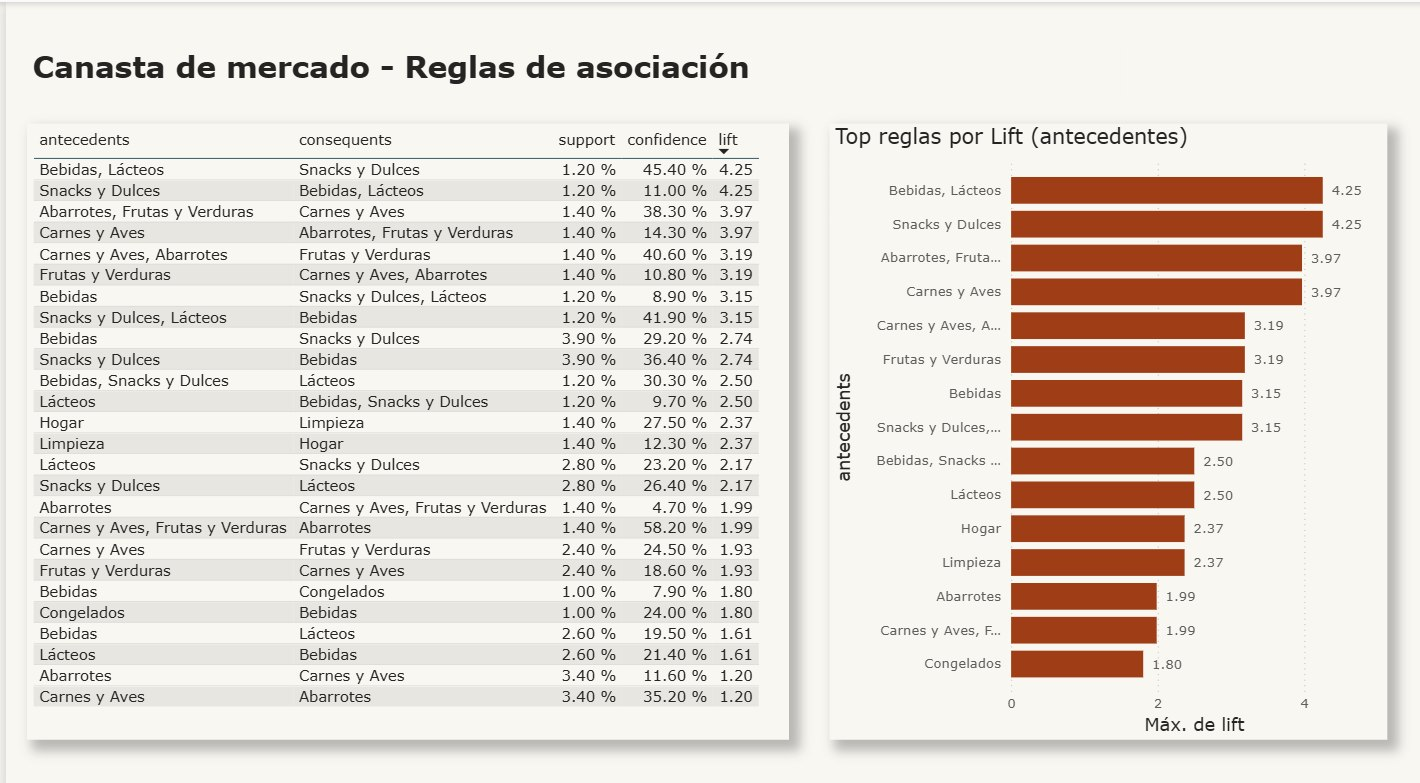

Layout of this report page (visuals, bound fields, positions):
{"tool":"powerbi","page":{"name":"07 Canasta Mercado","canvas":[1280,720],"ordinal":6},"visuals":[{"type":"tableEx","fields":{"Values":["reglas_asociacion.antecedents","reglas_asociacion.consequents","reglas_asociacion.support","reglas_asociacion.confidence","reglas_asociacion.lift"]},"box":[19.5,109.7,686.6,555.7],"z":0},{"type":"barChart","title":"Top reglas por Lift (antecedentes)","fields":{"Category":["reglas_asociacion.antecedents"],"Y":["Max(reglas_asociacion.lift)"]},"box":[741.5,109.7,502.6,555.7],"z":1000},{"type":"textbox","box":[19.5,37.2,985.7,49.5],"z":2000}]}

Visuals, with their boxes in screenshot pixels (x1, y1, x2, y2), scaled from the page's 1280x720 canvas onto the 1420x783 screenshot:
tableEx - reglas_asociacion.antecedents x reglas_asociacion.consequents: detection(22, 119, 783, 724)
"Top reglas por Lift (antecedentes)" barChart: detection(823, 119, 1380, 724)
textbox: detection(22, 40, 1115, 94)
